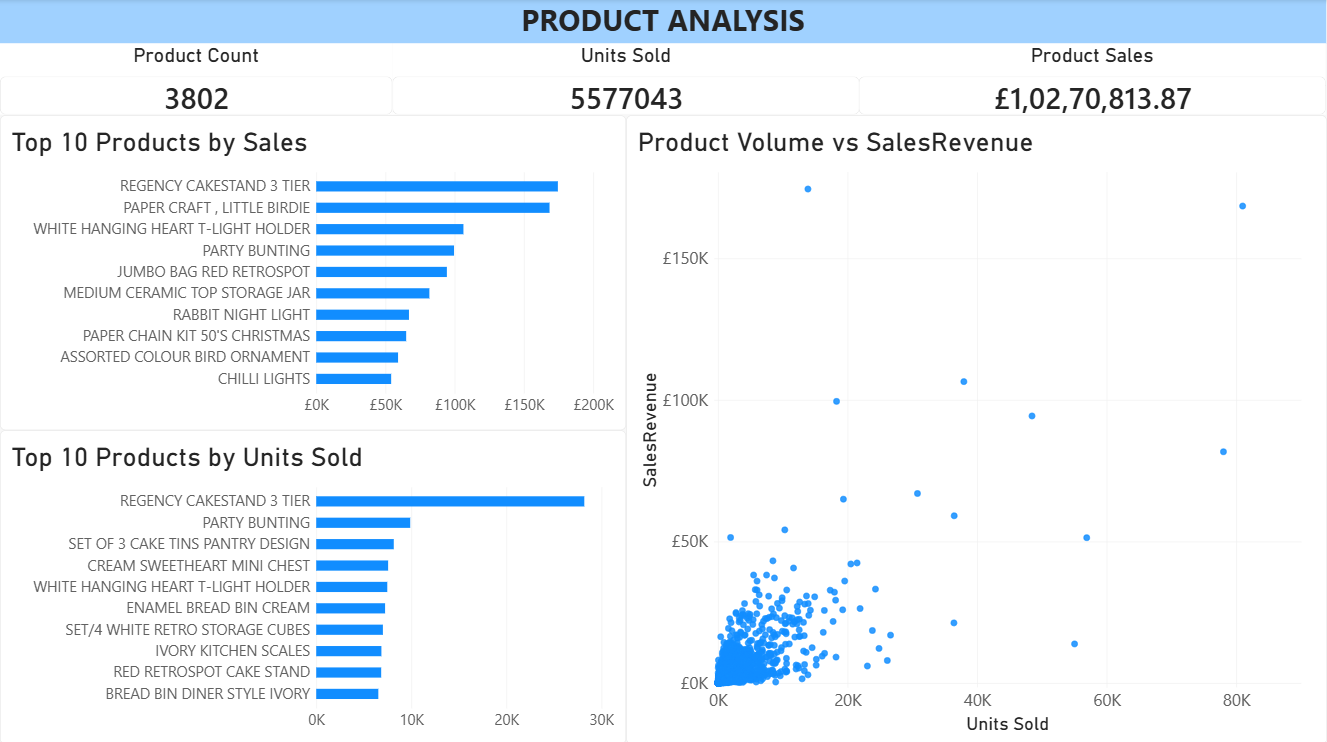

What the dashboard file says about the page in this screenshot:
{"tool":"powerbi","page":{"name":"Product Analysis","canvas":[1920,1080],"ordinal":3},"visuals":[{"type":"cardVisual","title":"Product Count","fields":{"Data":["Count(online_retail_clean.StockCode)"]},"box":[0,64,568,104],"z":0},{"type":"cardVisual","title":"Units Sold","fields":{"Data":["online_retail_clean.Units Sold"]},"box":[568,64,676,104],"z":1000},{"type":"cardVisual","title":"Product Sales","fields":{"Data":["online_retail_clean.SalesRevenue"]},"box":[1244,64,676,104],"z":2000},{"type":"barChart","title":"Top 10 Products by Sales","fields":{"Category":["online_retail_clean.Description"],"Y":["online_retail_clean.SalesRevenue"]},"box":[0,168,906,456],"z":3000},{"type":"barChart","title":"Top 10 Products by Units Sold","fields":{"Category":["online_retail_clean.Description"],"Y":["Sum(online_retail_clean.UnitPrice)"]},"box":[0,624,906,456],"z":4000},{"type":"scatterChart","title":"Product Volume vs SalesRevenue","fields":{"Category":["online_retail_clean.StockCode"],"X":["online_retail_clean.Units Sold"],"Y":["online_retail_clean.SalesRevenue"]},"box":[906,168,1014,912],"z":5000},{"type":"textbox","box":[0,0,1920,64],"z":6000}]}

Visuals, with their boxes in screenshot pixels (x1, y1, x2, y2), scaled from the page's 1920x1080 canvas onto the 1327x742 screenshot:
"Product Count" cardVisual: 0 44 393 115
"Units Sold" cardVisual: 393 44 860 115
"Product Sales" cardVisual: 860 44 1326 115
"Top 10 Products by Sales" barChart: 0 115 626 429
"Top 10 Products by Units Sold" barChart: 0 429 626 741
"Product Volume vs SalesRevenue" scatterChart: 626 115 1326 741
textbox: 0 0 1326 44
